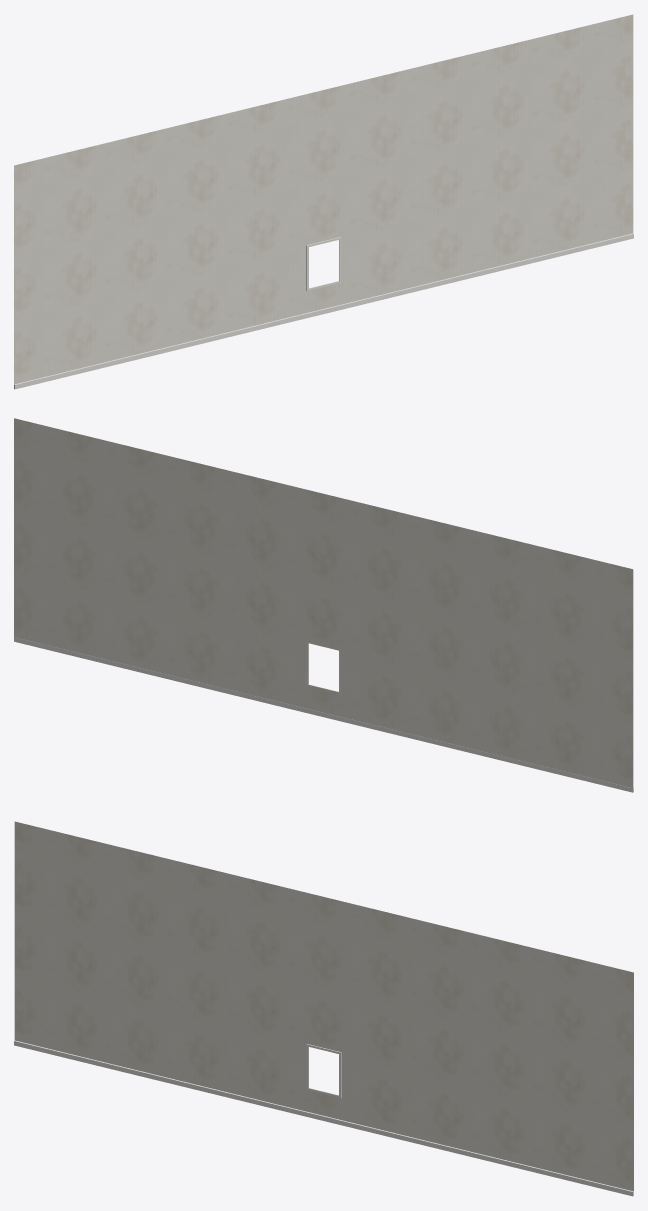
Rendered from wall20_hatch_hi.gltf.
3 renders of one model, top to bottom at view 1: azimuth 30°, elevation 25°; view 2: azimuth 150°, elevation 25°; view 3: azimuth 330°, elevation 25°, orthographic.
Parts seen in each view (by area): view 1: jx_w20_hatch_hi; view 2: jx_w20_hatch_hi; view 3: jx_w20_hatch_hi.
Boxes of the visible parts, box(x1,y1,x2,y2) form: jx_w20_hatch_hi: box(14, 14, 633, 389); jx_w20_hatch_hi: box(14, 418, 633, 792); jx_w20_hatch_hi: box(14, 821, 633, 1196).
Size of the model in its own units: 20.3 by 7 by 0.05.
2 materials, 2 textured.
